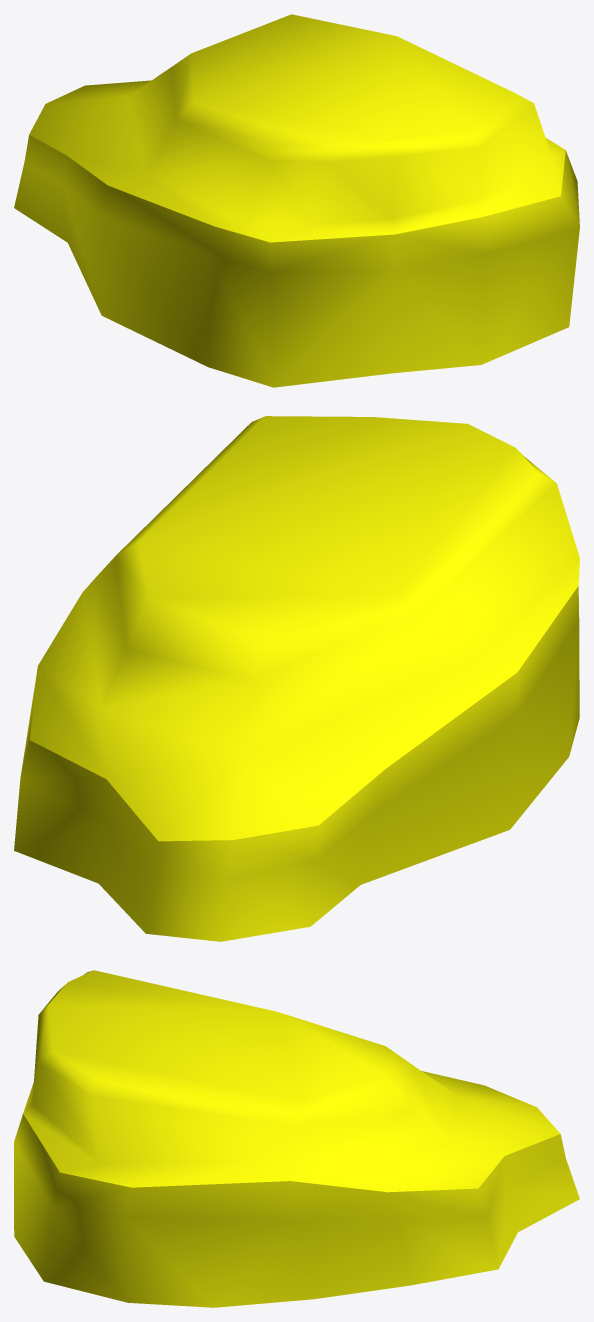
3 views of the same model, one above another, from view 1: azimuth 30°, elevation 25°; view 2: azimuth 150°, elevation 25°; view 3: azimuth 270°, elevation 25° (orthographic). The views are drawn at different scales.
Visible parts, largest first — view 1: TS_FaGuangSuiPian_01; view 2: TS_FaGuangSuiPian_01; view 3: TS_FaGuangSuiPian_01.
Boxes of the visible parts, box(x1,y1,x2,y2) form: TS_FaGuangSuiPian_01: box(14, 14, 579, 387); TS_FaGuangSuiPian_01: box(14, 416, 579, 941); TS_FaGuangSuiPian_01: box(14, 970, 579, 1307).
Bounding box in the file's own units: 0.1313 × 0.0706 × 0.1801.
1 material, 1 textured.
